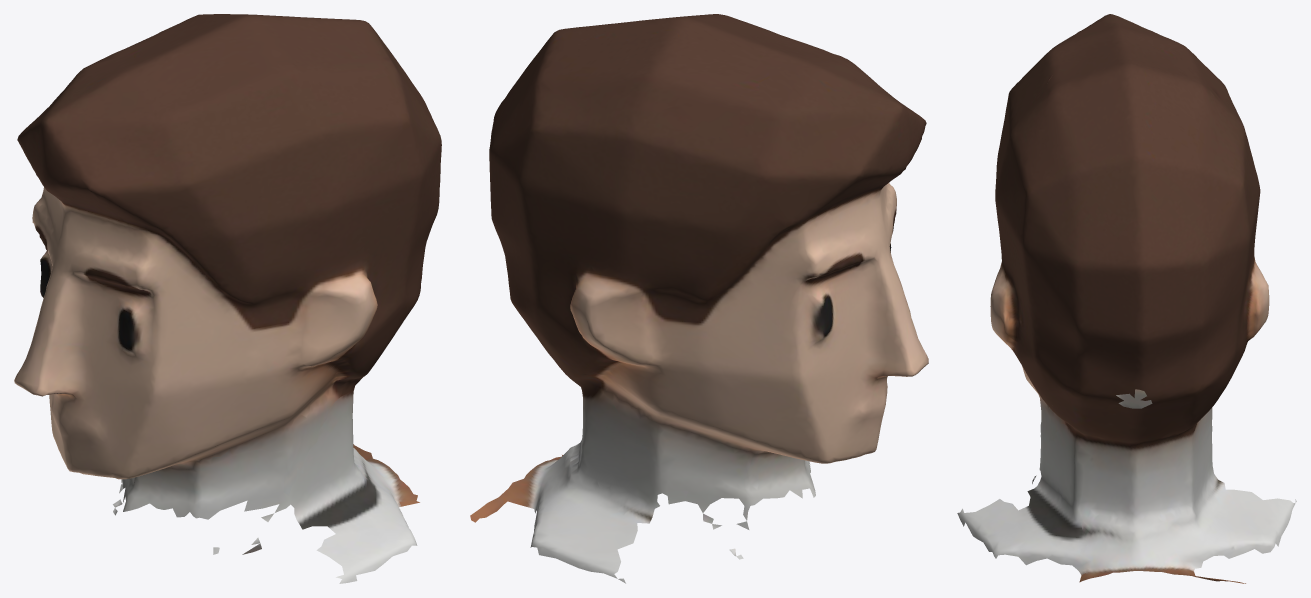
File: turistaCabeza.obj
3 renders of one model, left to right at view 1: azimuth 30°, elevation 25°; view 2: azimuth 150°, elevation 25°; view 3: azimuth 270°, elevation 25°, orthographic. The views are drawn at different scales.
Visible parts, largest first — view 1: input.002; view 2: input.002; view 3: input.002.
Part boxes in pixels (x1,y1,x2,y2): input.002: (14,14,441,583); input.002: (470,14,928,583); input.002: (957,14,1296,583).
Bounding box in the file's own units: 0.0454 × 0.052 × 0.0353.
1 material, 1 textured.
